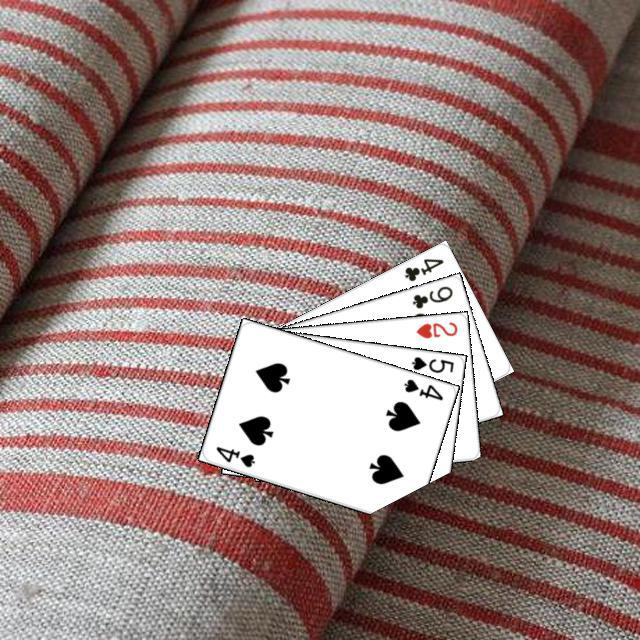2h: (411, 317, 459, 340)
4c: (399, 253, 445, 283)
4s: (399, 374, 445, 402), (211, 441, 257, 469)
5s: (406, 351, 455, 375)
9c: (407, 281, 454, 310)
